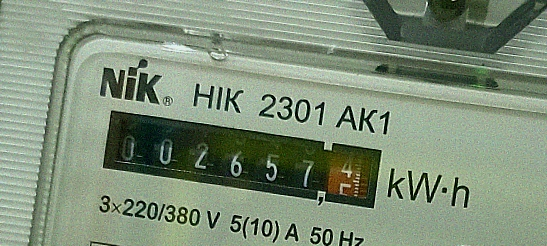0: (156, 134, 175, 166), (118, 132, 138, 162)
2: (191, 140, 211, 171)
4: (338, 151, 356, 178)
5: (262, 151, 281, 183), (336, 180, 353, 197)
6: (227, 147, 245, 178)
7: (298, 156, 316, 189)
screen: (91, 98, 395, 221)
